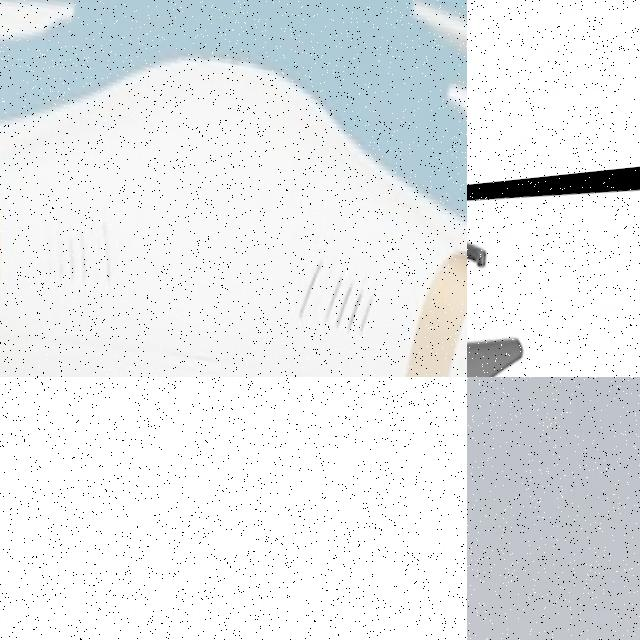drone: (0, 0, 467, 377), (467, 155, 640, 377)
